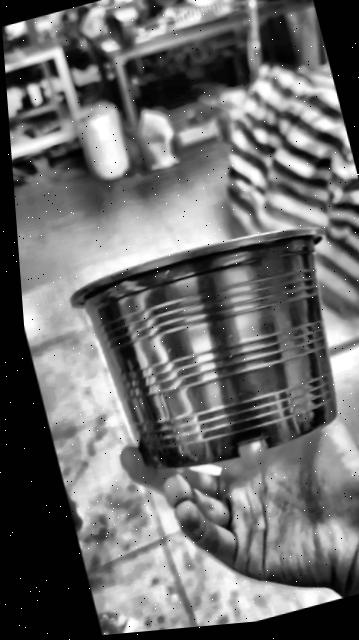pot: (73, 229, 335, 468)
